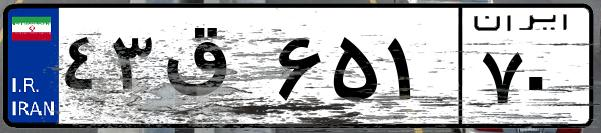0: (525, 38, 570, 115)
1: (385, 28, 445, 110)
3: (110, 28, 158, 98)
4: (57, 26, 110, 100)
5: (330, 28, 385, 110)
6: (270, 28, 330, 110)
7: (475, 38, 525, 113)
ق: (158, 20, 270, 120)
